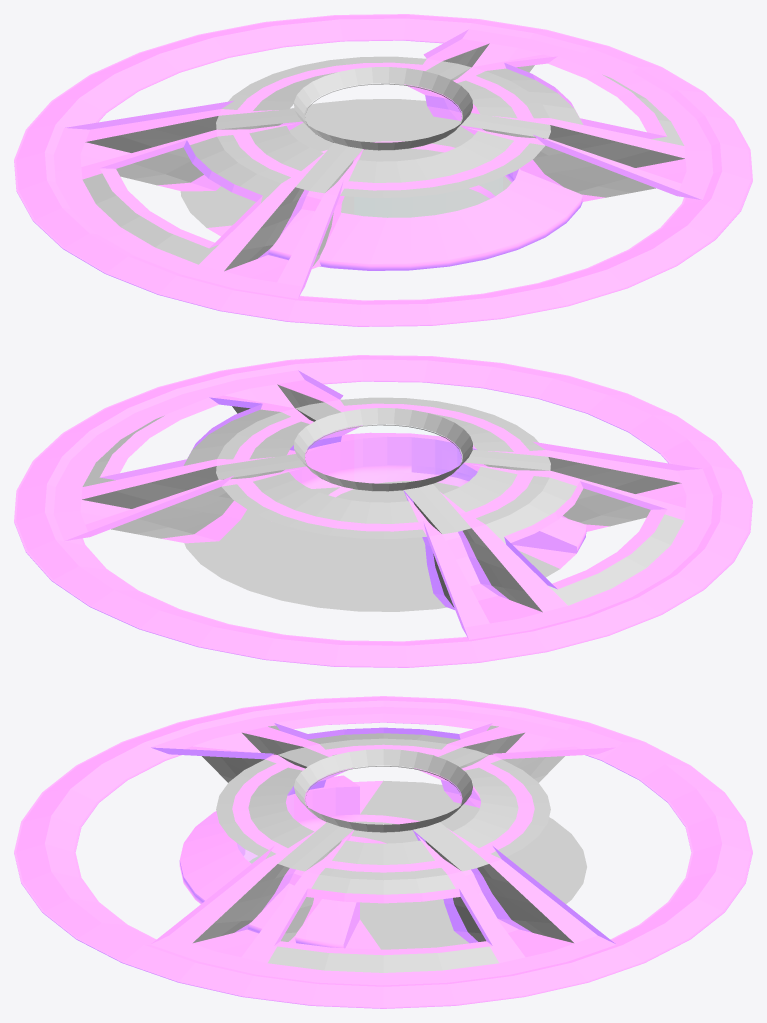
Rendered from Space Ship (Optimized).fbx.
The picture shows the model from 3 angles, top to bottom: view 1: azimuth 30°, elevation 25°; view 2: azimuth 150°, elevation 25°; view 3: azimuth 270°, elevation 25°; orthographic projection.
Parts seen in each view (by area): view 1: Cylinder.006, Circle, Cylinder.001; view 2: Cylinder.006, Circle, Cylinder.001; view 3: Cylinder.006, Circle, Cylinder.001.
Part boxes in pixels (bbox=[...]): Cylinder.006: bbox=[53, 29, 713, 298]; Circle: bbox=[14, 14, 752, 326]; Cylinder.001: bbox=[180, 99, 582, 270]; Cylinder.006: bbox=[53, 370, 713, 639]; Circle: bbox=[14, 355, 752, 667]; Cylinder.001: bbox=[184, 432, 586, 611]; Cylinder.006: bbox=[150, 706, 616, 985]; Circle: bbox=[14, 696, 752, 1008]; Cylinder.001: bbox=[179, 775, 586, 949].
Size of the model in its own units: 9552 by 1340 by 9552.
